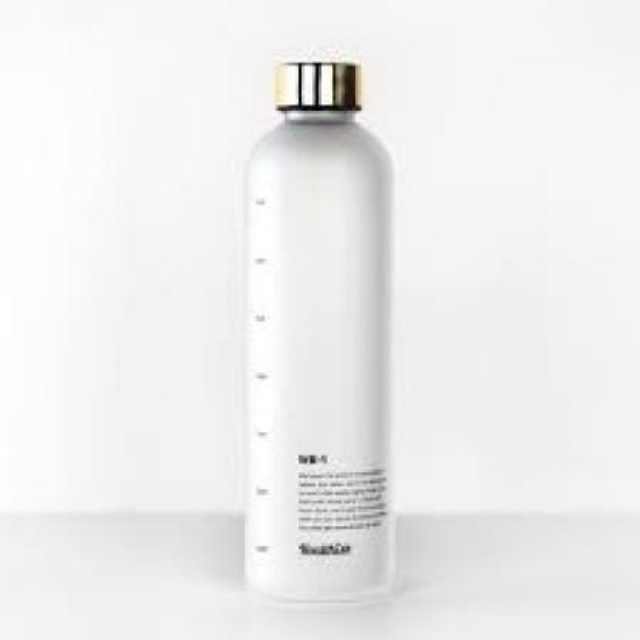trash: (246, 62, 392, 598)
